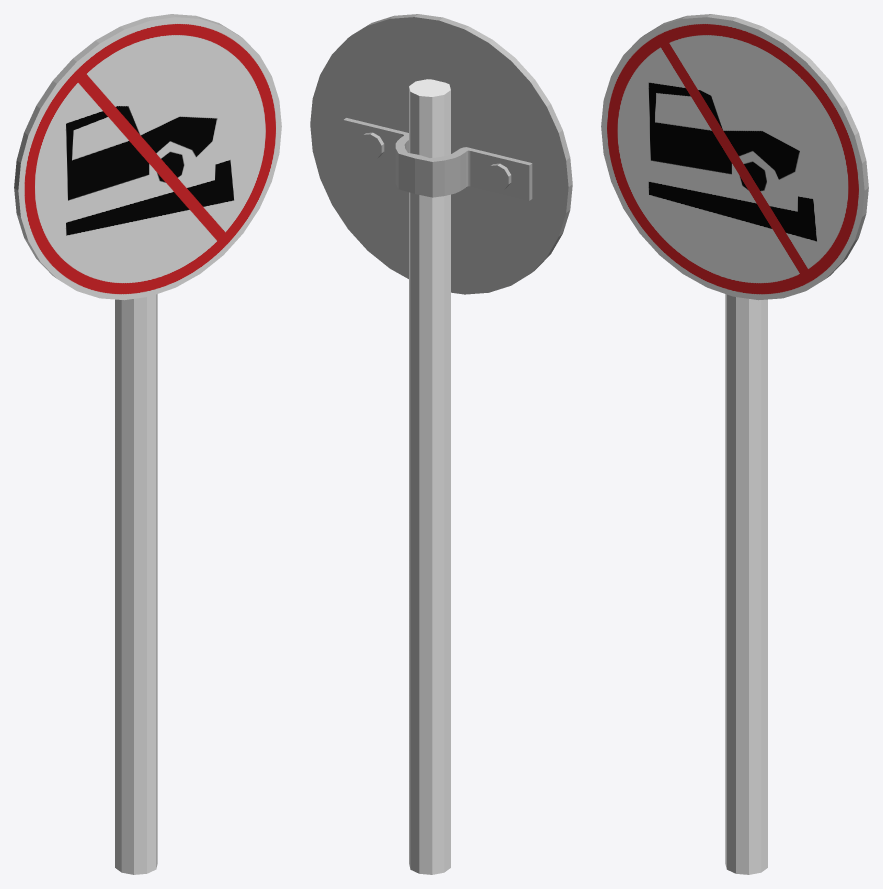
Rendered from outOfRoadWariningSign.glb.
The picture shows the model from 3 angles, left to right: view 1: azimuth 30°, elevation 25°; view 2: azimuth 150°, elevation 25°; view 3: azimuth 330°, elevation 25°; orthographic projection.
Visible parts, largest first — view 1: Circle, Cube; view 2: Circle, Cube; view 3: Circle, Cube.
Boxes of the visible parts, x1,y1,x2,y2 form: Circle: [14, 14, 281, 300]; Cube: [115, 294, 157, 874]; Circle: [310, 14, 572, 294]; Cube: [343, 79, 532, 874]; Circle: [601, 14, 868, 300]; Cube: [725, 294, 767, 874].
Bounding box in the file's own units: 1.51 × 4.68 × 0.2903.
3 materials, 1 textured.
